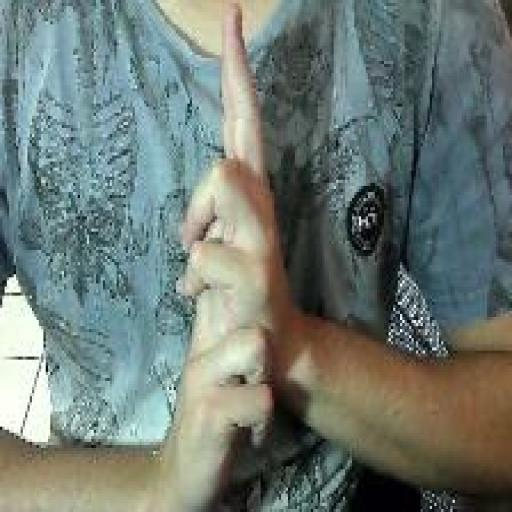Hitsuji -ram-: (174, 3, 283, 512)
